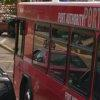Bus: (14, 0, 100, 98)
